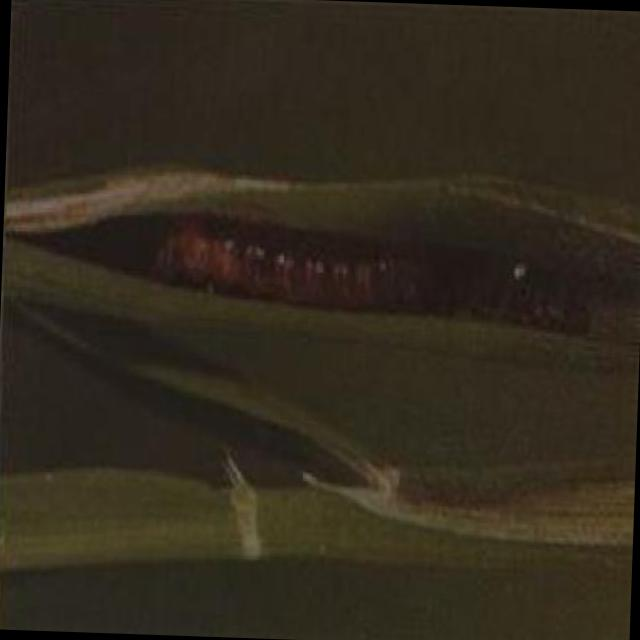leaf-folder: (130, 176, 477, 385)
